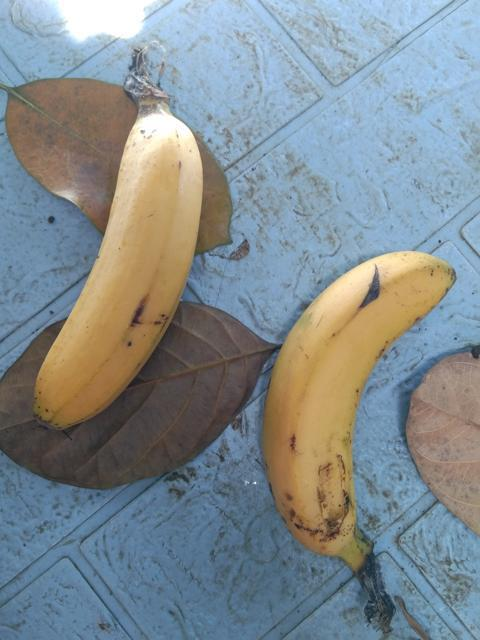freshripe: (3, 73, 223, 480)
ripe: (257, 238, 478, 568)
